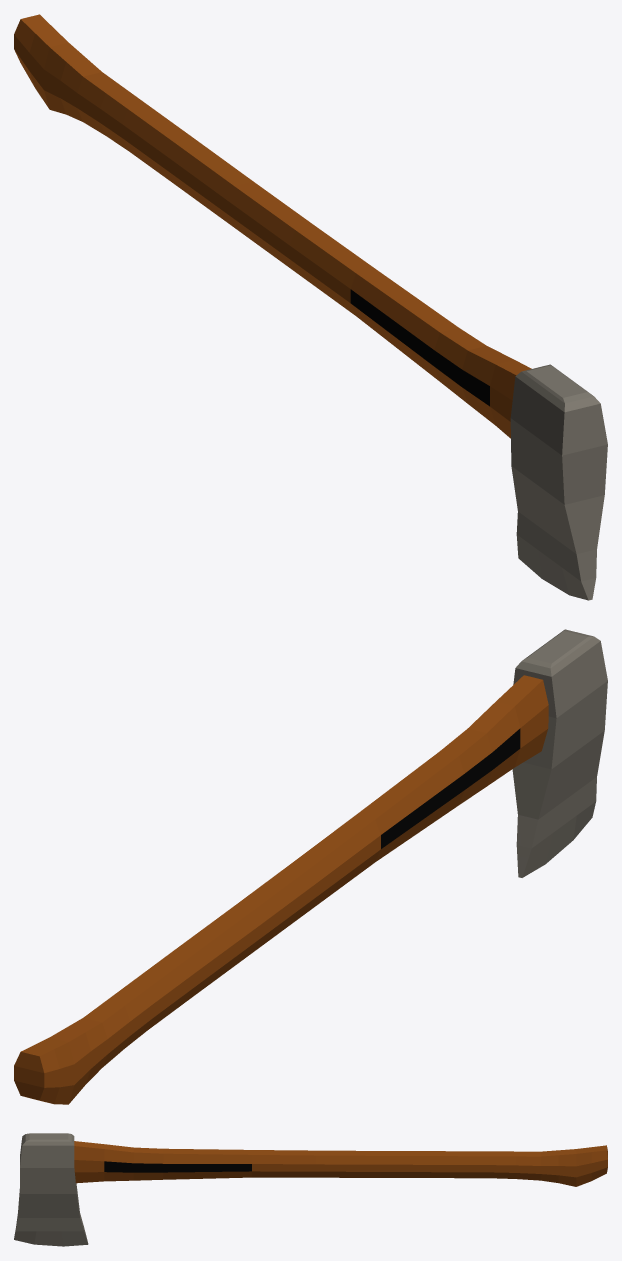
File: Axe.fbx
3 renders of one model, top to bottom at view 1: azimuth 30°, elevation 25°; view 2: azimuth 150°, elevation 25°; view 3: azimuth 270°, elevation 25°, orthographic. The views are drawn at different scales.
Visible parts, largest first — view 1: Axe; view 2: Axe; view 3: Axe.
Part boxes in pixels (x1,y1,x2,y2): Axe: (14, 14, 607, 600); Axe: (14, 629, 607, 1104); Axe: (14, 1133, 607, 1246).
Bounding box in the file's own units: 0.0405 × 0.1744 × 0.8581.
